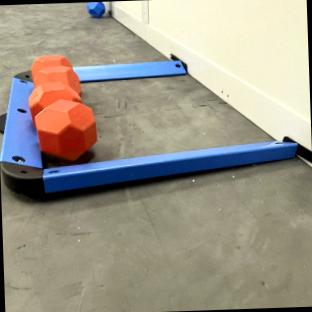Parking - B: (0, 71, 296, 196)
V5_BLUE: (88, 2, 105, 18)
V5_RED: (27, 55, 97, 160)
